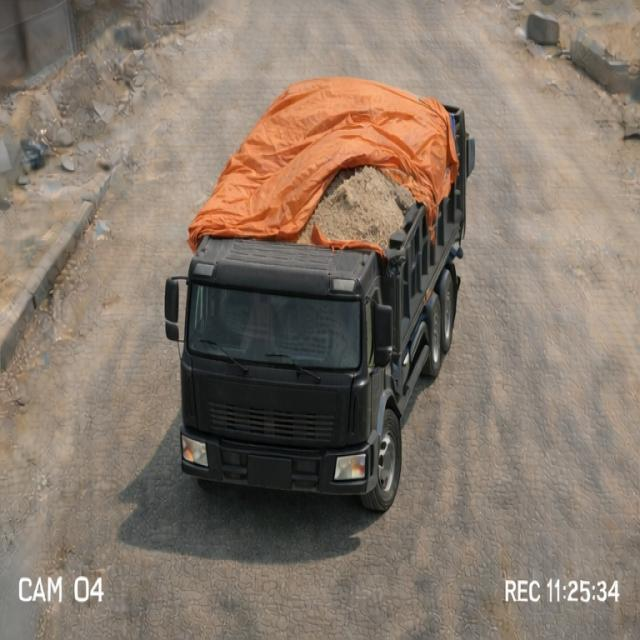trailer: (191, 73, 476, 254)
truck: (162, 51, 504, 522)
